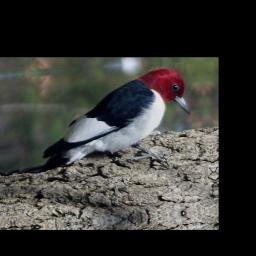Woodpecker: (27, 65, 199, 183)
